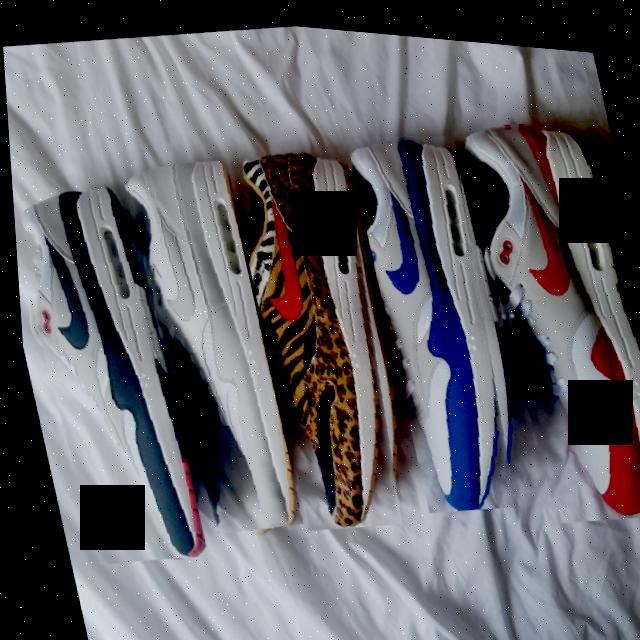shoe: (450, 97, 640, 524), (222, 131, 421, 534), (9, 172, 202, 574), (343, 114, 530, 513), (110, 149, 298, 540)
